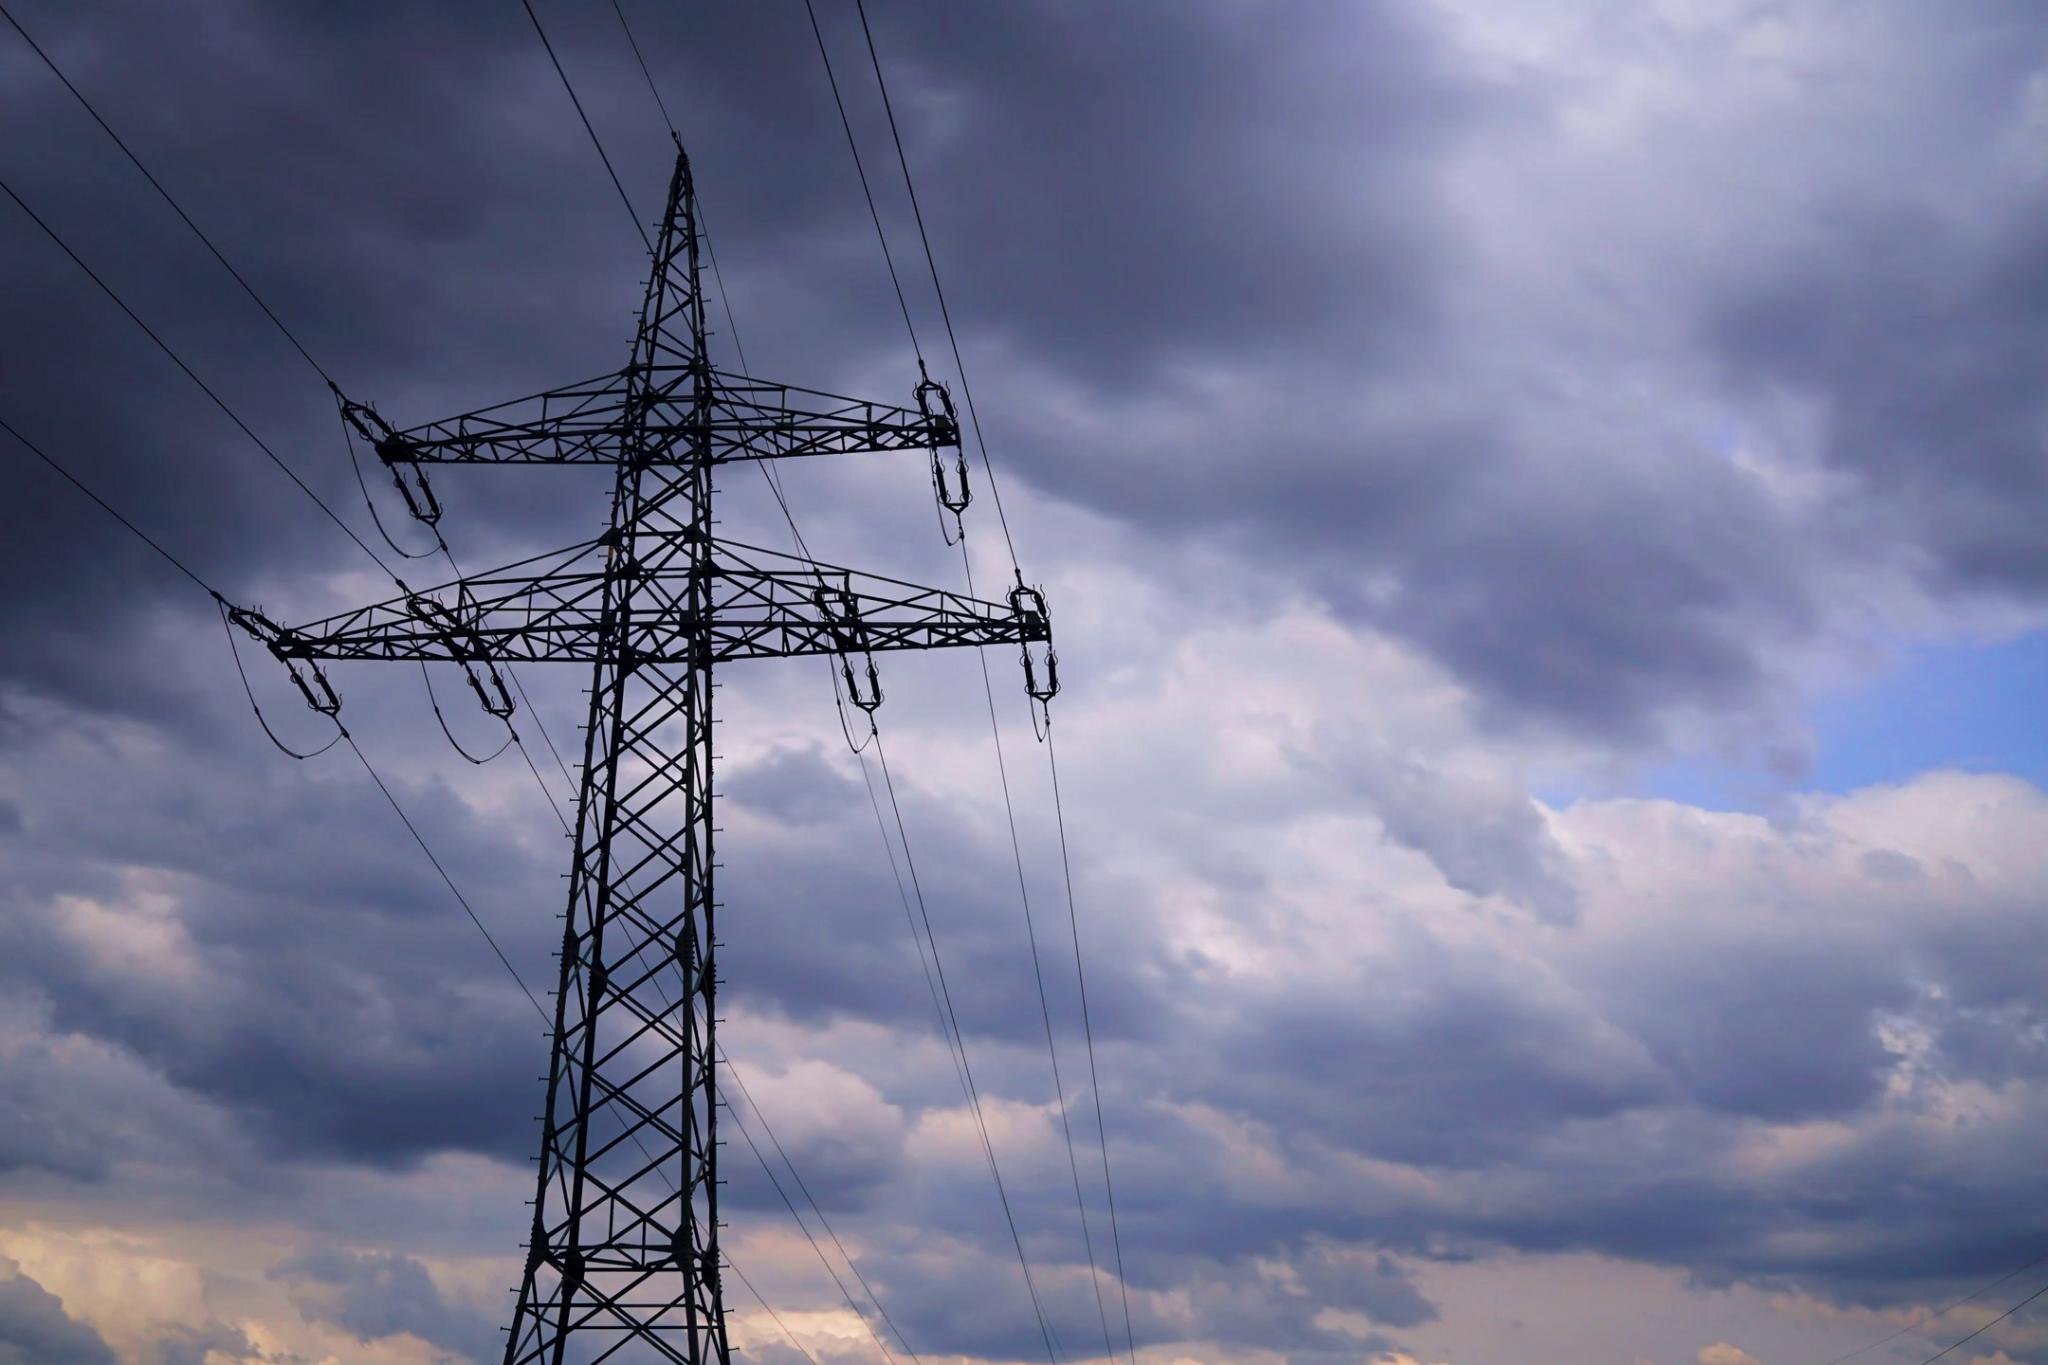cable tower: (204, 116, 1090, 1365)
